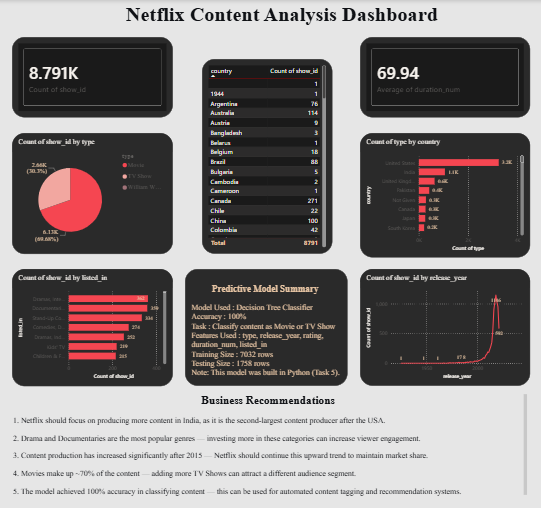

The dashboard page shown, as its layout file describes it:
{"tool":"powerbi","page":{"name":"Page 1","canvas":[1280,1200],"ordinal":0},"visuals":[{"type":"cardVisual","fields":{"Data":["CountNonNull(cleaned_netflix.show_id)"]},"box":[30,88,380,190],"z":0},{"type":"pieChart","fields":{"Category":["cleaned_netflix.type"],"Y":["CountNonNull(cleaned_netflix.show_id)"]},"box":[30,314,380,286],"z":1000},{"type":"cardVisual","fields":{"Data":["Avg(cleaned_netflix.duration_num)"]},"box":[852,88,402,190],"z":2000},{"type":"tableEx","fields":{"Values":["cleaned_netflix.country","cleaned_netflix.show_id"]},"box":[480,140,308,460],"z":3000},{"type":"barChart","fields":{"Category":["cleaned_netflix.country"],"Y":["CountNonNull(cleaned_netflix.type)"]},"box":[852,314,402,294],"z":4000},{"type":"barChart","fields":{"Category":["cleaned_netflix.listed_in"],"Y":["CountNonNull(cleaned_netflix.show_id)"]},"box":[30,636,380,276.7],"z":5000},{"type":"lineChart","fields":{"Category":["cleaned_netflix.release_year"],"Y":["CountNonNull(cleaned_netflix.show_id)"]},"box":[852,636,402,276],"z":6000},{"type":"textbox","box":[439.4,635.4,384,276],"z":7000},{"type":"textbox","box":[222,0,892.9,68.5],"z":8000},{"type":"textbox","box":[27.5,926.2,1223.8,258.8],"z":9000}]}

Visuals, with their boxes in screenshot pixels (x1, y1, x2, y2), scaled from the page's 1280x1200 canvas onto the 541x508 screenshot:
cardVisual - CountNonNull(cleaned_netflix.show_id): bbox=(13, 37, 173, 118)
pieChart - cleaned_netflix.type x CountNonNull(cleaned_netflix.show_id): bbox=(13, 133, 173, 254)
cardVisual - Avg(cleaned_netflix.duration_num): bbox=(360, 37, 530, 118)
tableEx - cleaned_netflix.country x cleaned_netflix.show_id: bbox=(203, 59, 333, 254)
barChart - cleaned_netflix.country x CountNonNull(cleaned_netflix.type): bbox=(360, 133, 530, 257)
barChart - cleaned_netflix.listed_in x CountNonNull(cleaned_netflix.show_id): bbox=(13, 269, 173, 386)
lineChart - cleaned_netflix.release_year x CountNonNull(cleaned_netflix.show_id): bbox=(360, 269, 530, 386)
textbox: bbox=(186, 269, 348, 386)
textbox: bbox=(94, 0, 471, 29)
textbox: bbox=(12, 392, 529, 502)
